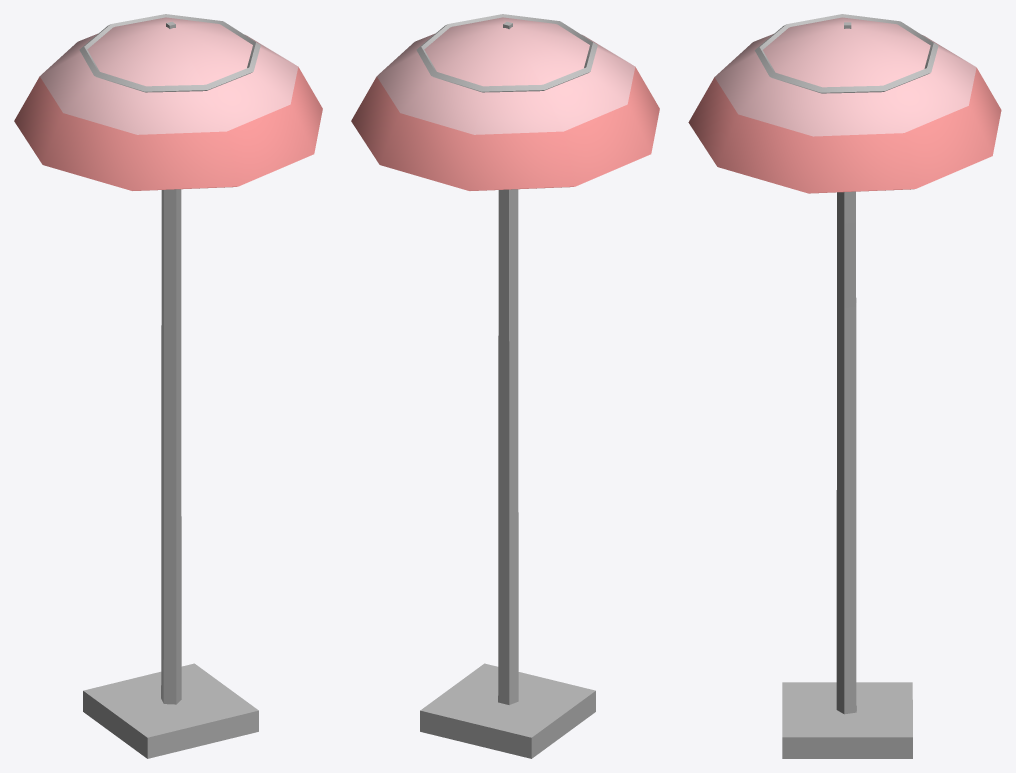
The model's file is lamp_027.glb.
3 views of the same model, side by side, from view 1: azimuth 30°, elevation 25°; view 2: azimuth 150°, elevation 25°; view 3: azimuth 270°, elevation 25° (orthographic).
Parts seen in each view (by area): view 1: lamp_027; view 2: lamp_027; view 3: lamp_027.
Boxes of the visible parts, x1,y1,x2,y2 form: lamp_027: (14,14,322,758); lamp_027: (351,14,659,758); lamp_027: (688,14,1001,758).
Size of the model in its own units: 0.6555 by 1.63 by 0.6547.
Materials: 1 (1 with a texture image).
